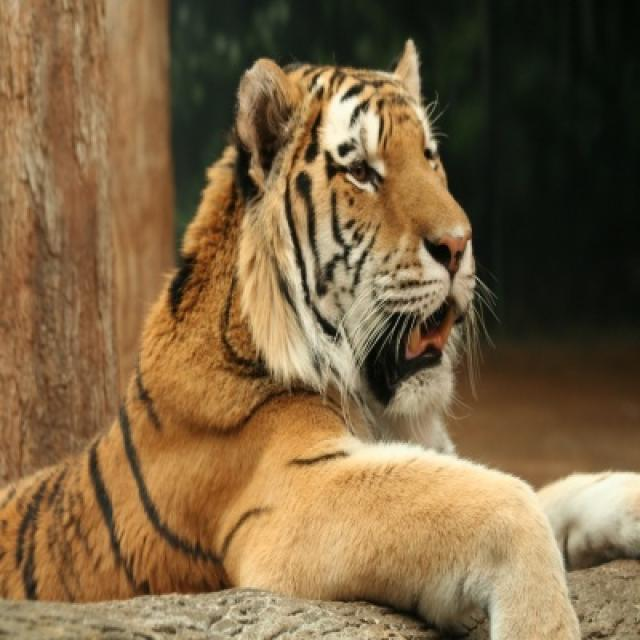Tiger: (5, 47, 638, 638)
